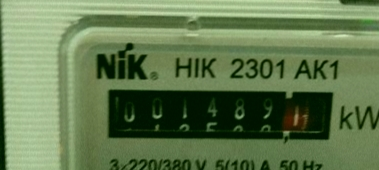0: (148, 96, 164, 121), (121, 100, 136, 125)
1: (177, 95, 191, 124), (289, 100, 301, 130)
4: (204, 96, 220, 122)
8: (230, 96, 247, 123)
9: (259, 98, 274, 123)
screen: (92, 79, 348, 157)
